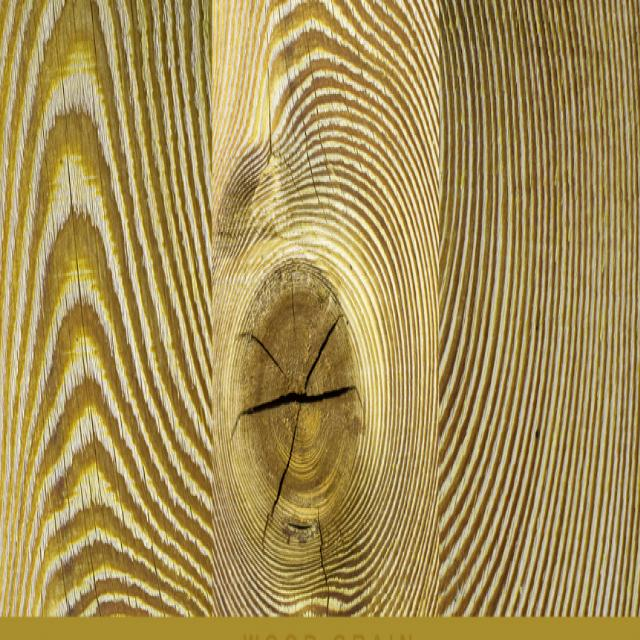have-wooden-eyes: (231, 261, 363, 544)
